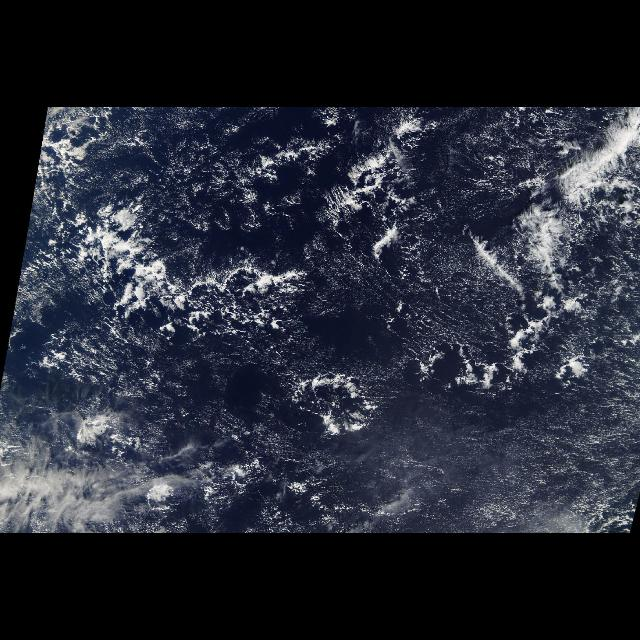Fish: (33, 107, 631, 395)
Gravel: (42, 145, 318, 385)
Sugar: (398, 396, 640, 530), (398, 266, 482, 342)
